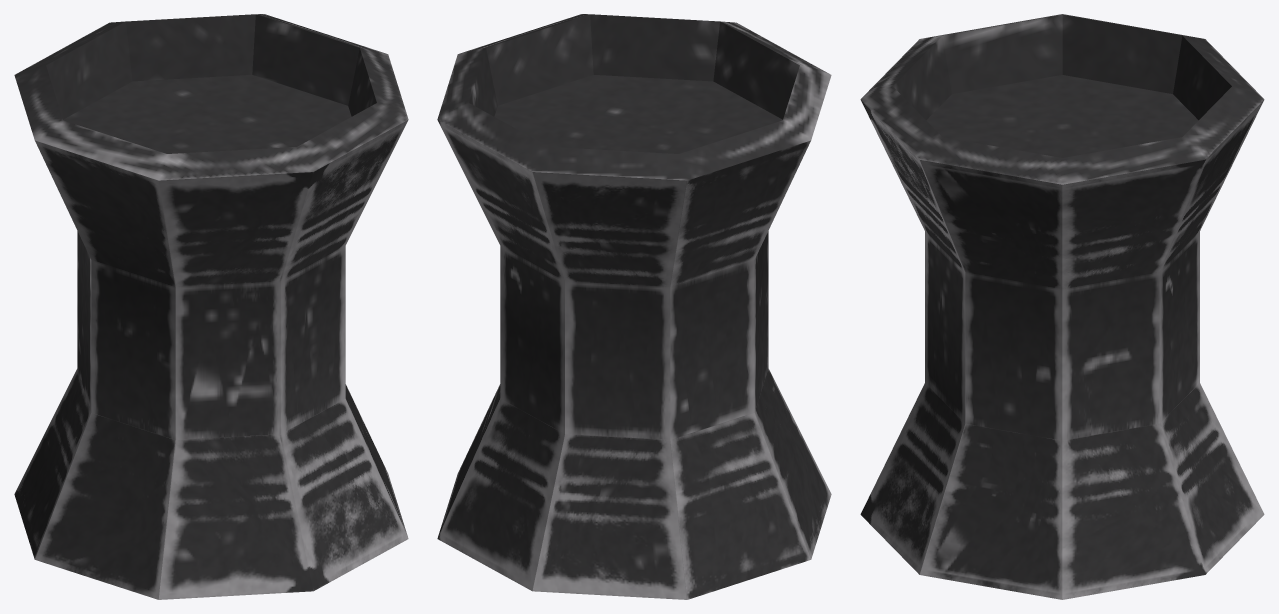
The model's file is ME_smallest_wheel.fbx.
3 renders of one model, left to right at view 1: azimuth 30°, elevation 25°; view 2: azimuth 150°, elevation 25°; view 3: azimuth 270°, elevation 25°, orthographic.
Visible parts, largest first — view 1: ME_smallest_wheel; view 2: ME_smallest_wheel; view 3: ME_smallest_wheel.
Part boxes in pixels (<box>): ME_smallest_wheel: <box>14,14,408,599</box>; ME_smallest_wheel: <box>437,14,831,599</box>; ME_smallest_wheel: <box>860,14,1264,599</box>.
Size of the model in its own units: 19 by 22.21 by 19.
